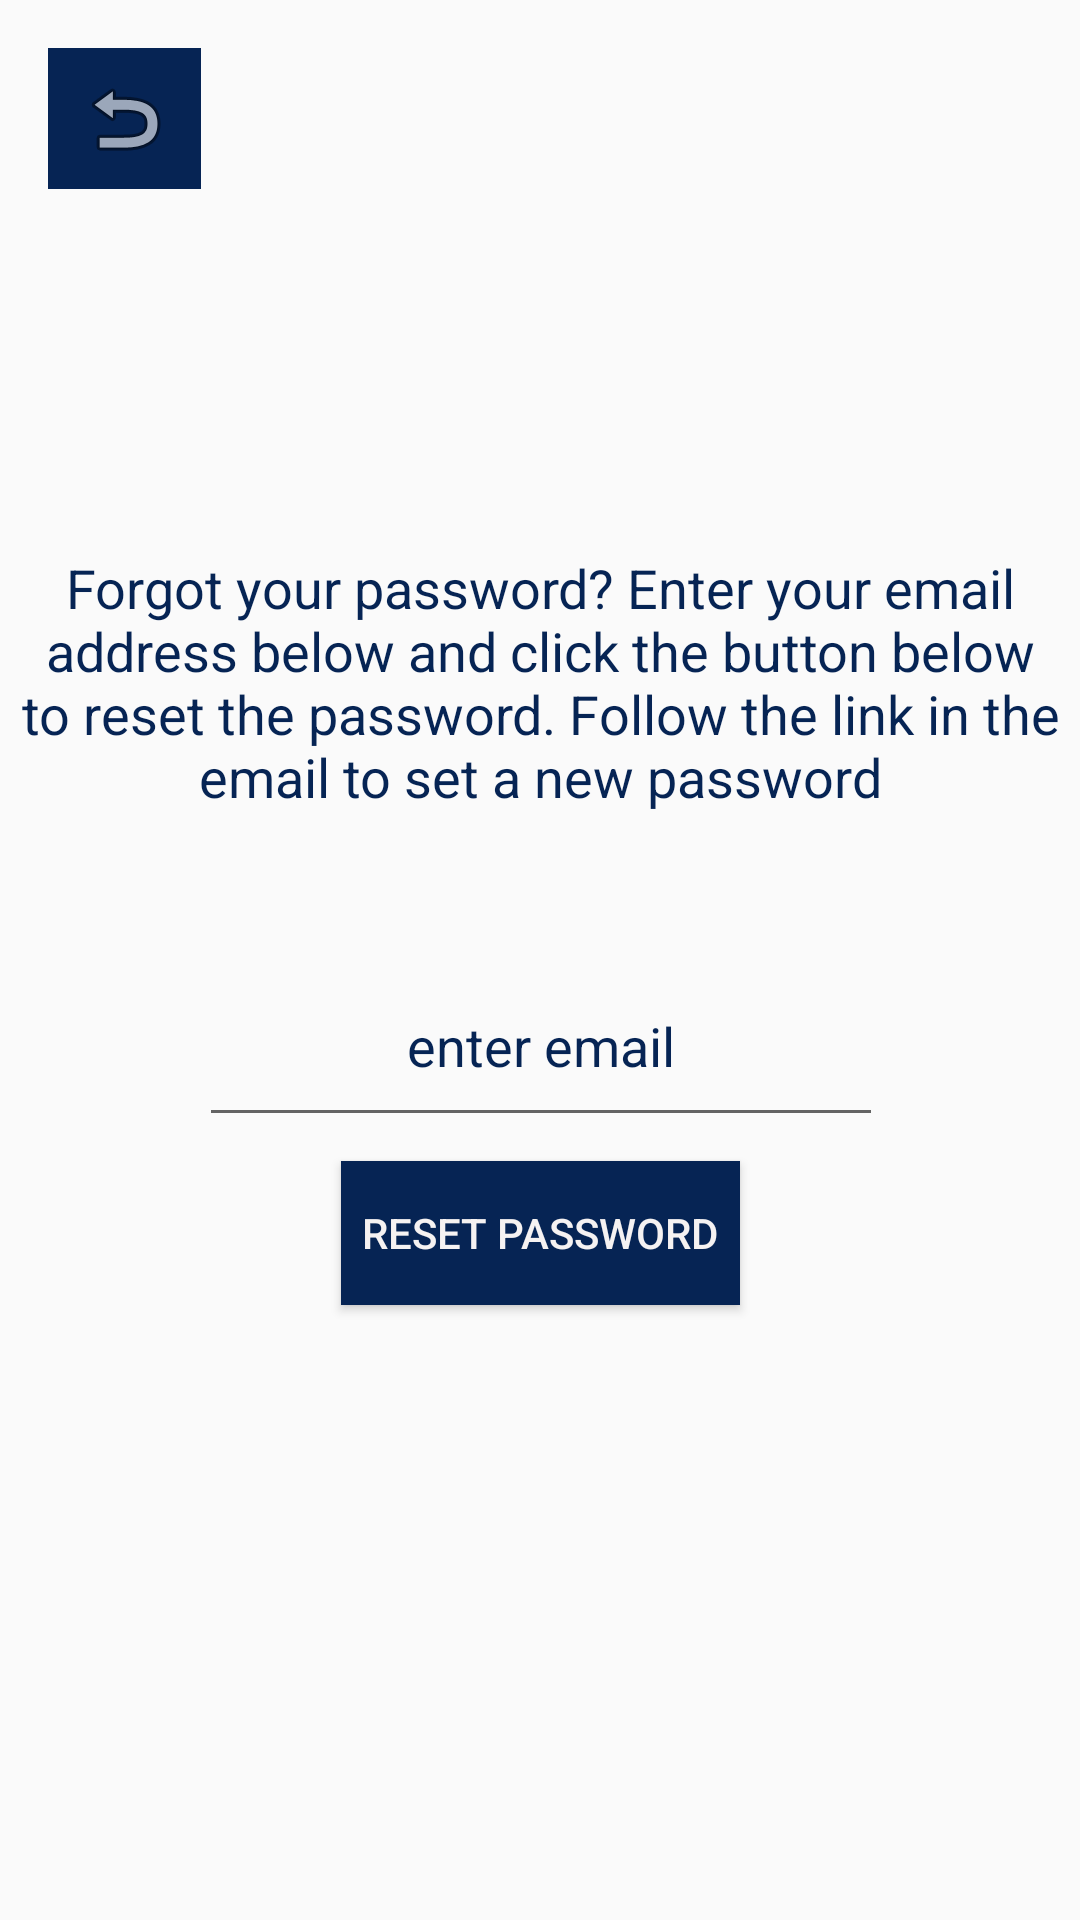

Icons on this 1080x1920 Android screen, each with its box as (x1, y1, x2, y2):
revert: (48, 48, 201, 189)
